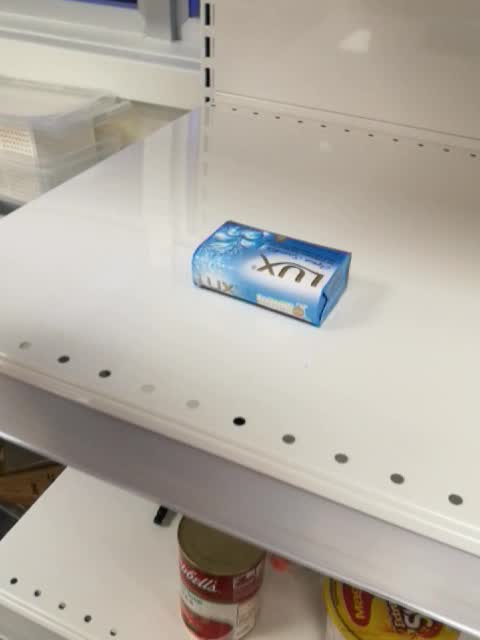soap: (189, 218, 354, 328)
